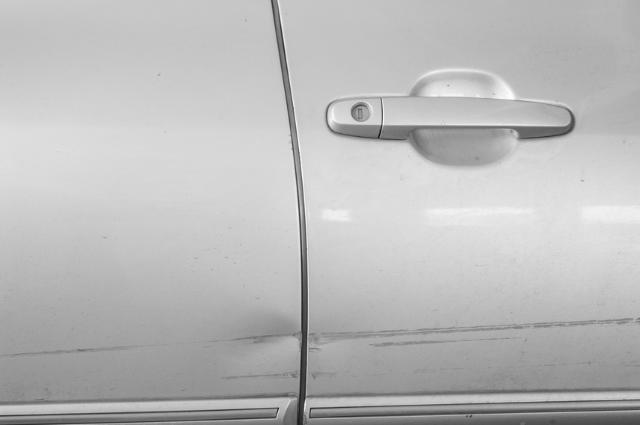Bumper: (6, 239, 640, 425)
